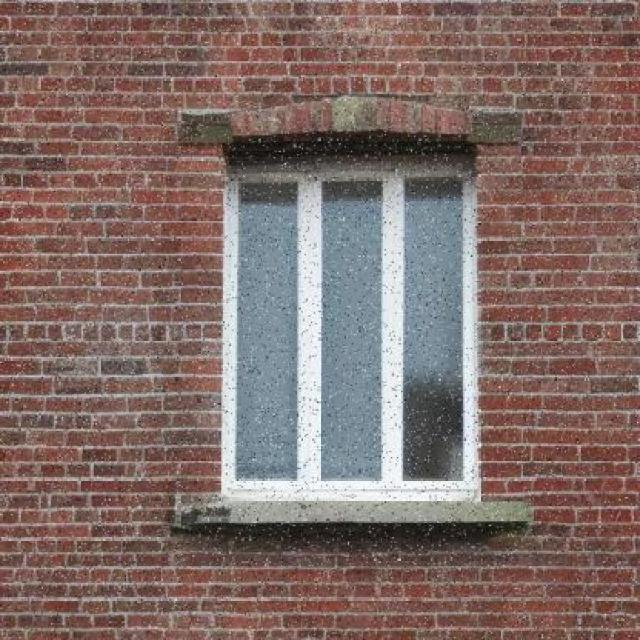window: (223, 144, 479, 501)
